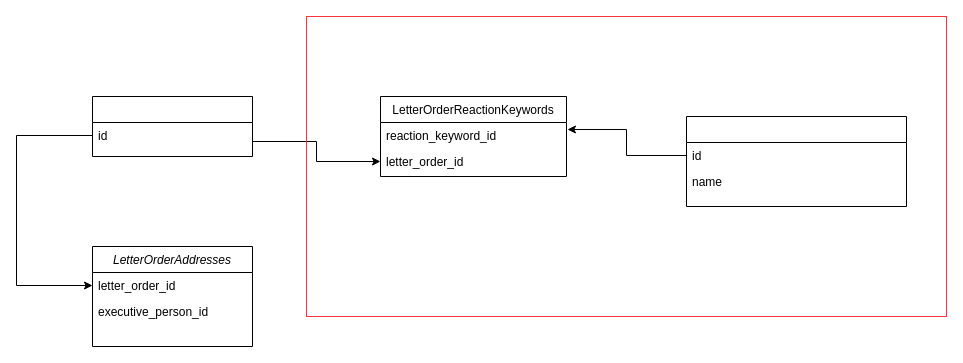
Image size: 963x363. Some labels were removed from this diagram. The shapes that lost their labels are listed below. From the top down, each one's box as (x1, y1, x2, y2) in pixels, then its label:
(92, 96, 252, 156): LetterOrder
(686, 116, 906, 206): ReactionKeywords
